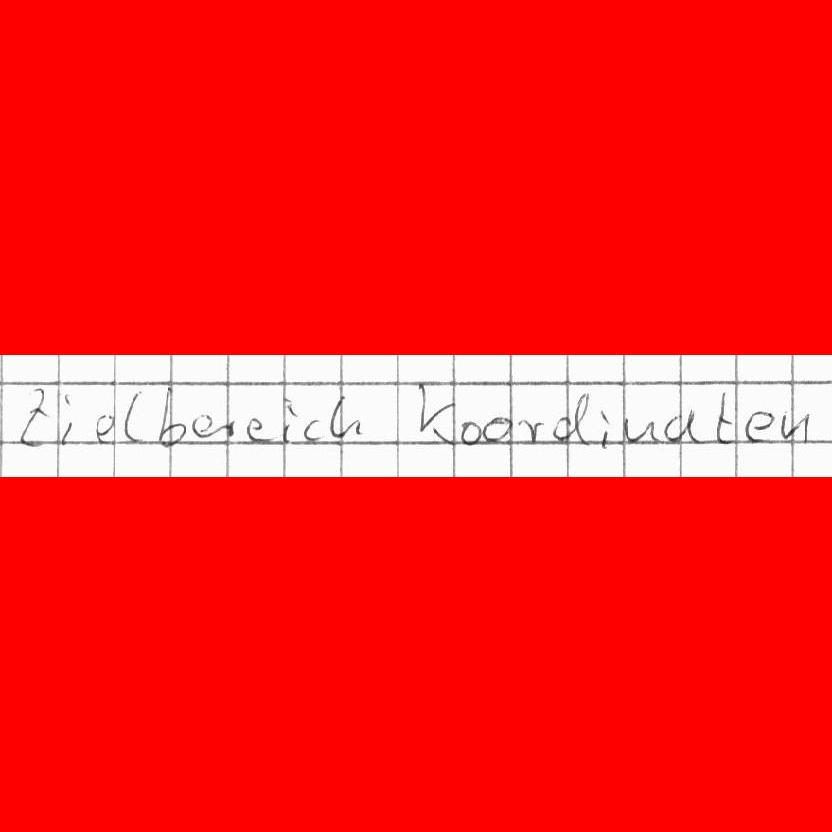Char: (416, 381, 459, 446), (551, 389, 593, 447), (155, 385, 189, 449), (18, 384, 50, 448), (327, 393, 364, 439), (660, 407, 702, 446), (712, 388, 736, 446), (122, 387, 146, 442), (743, 408, 775, 446), (779, 408, 811, 445), (623, 415, 665, 443), (60, 390, 77, 448), (244, 413, 274, 443), (482, 414, 514, 442), (516, 416, 546, 445), (280, 398, 299, 443), (190, 411, 218, 440), (94, 411, 116, 445), (598, 407, 613, 453), (459, 419, 483, 445), (301, 415, 321, 442), (219, 415, 241, 439)
